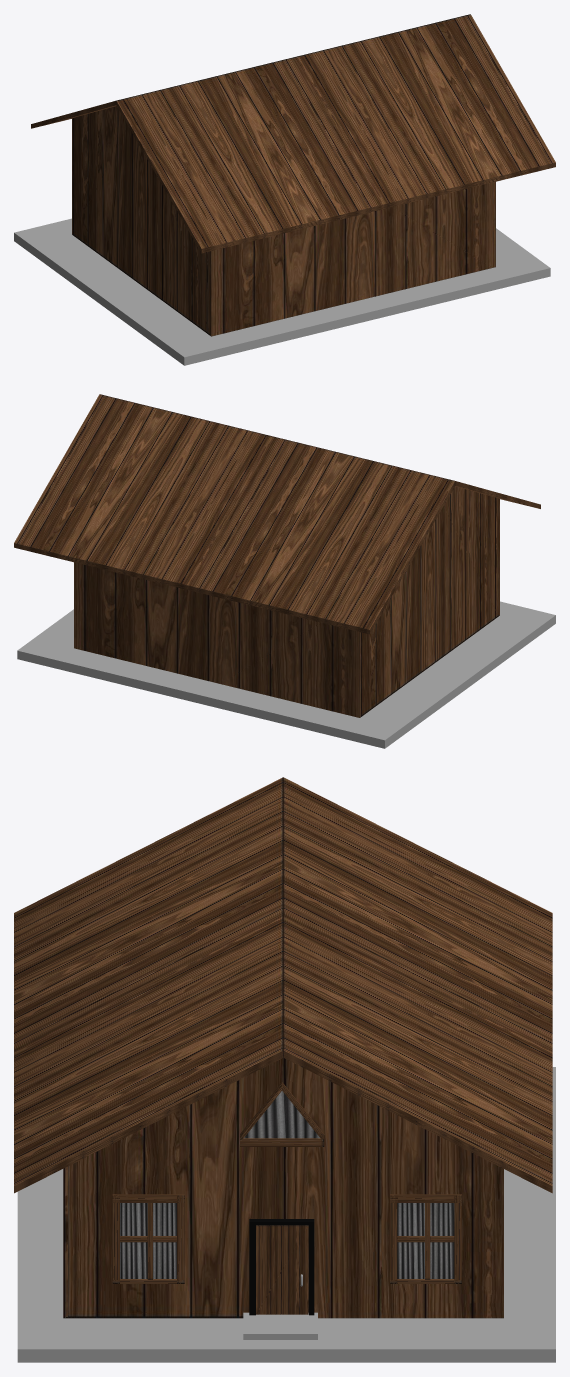
Rendered from Casa3.fbx.
The picture shows the model from 3 angles, top to bottom: view 1: azimuth 30°, elevation 25°; view 2: azimuth 150°, elevation 25°; view 3: azimuth 270°, elevation 25°; orthographic projection. The views are drawn at different scales.
Parts seen in each view (by area): view 1: pCube74, pCube72, Base; view 2: pCube74, pCube72, Base; view 3: pCube74, pCube72, Base, pPlane1 (×2), Puerta6, pPlane37, Escalera1, marco_Puerta1, pCube48 (×2), pCube50 (×2), pCube77.
Part boxes in pixels (x1,y1,x2,y2): pCube74: [31, 14, 555, 253]; pCube72: [72, 106, 495, 336]; Base: [14, 218, 550, 365]; pCube74: [14, 394, 540, 634]; pCube72: [74, 486, 499, 717]; Base: [17, 601, 555, 748]; pCube74: [14, 777, 552, 1193]; pCube72: [63, 1057, 503, 1318]; Base: [17, 1067, 555, 1362]; pPlane1 (×2): [244, 1091, 454, 1278]; Puerta6: [256, 1225, 308, 1314]; pPlane37: [120, 1203, 176, 1278]; Escalera1: [243, 1312, 317, 1339]; marco_Puerta1: [249, 1219, 314, 1315]; pCube48 (×2): [177, 1194, 461, 1283]; pCube50 (×2): [112, 1194, 397, 1283]; pCube77: [240, 1138, 324, 1146].
Bounding box in the file's own units: 58.22 × 30 × 46.69.
Materials: 5 (3 with a texture image).
